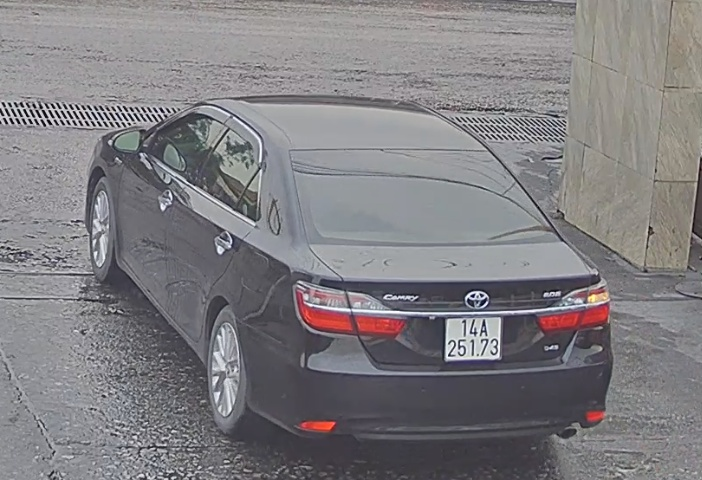vehicle plate: (435, 307, 505, 370)
